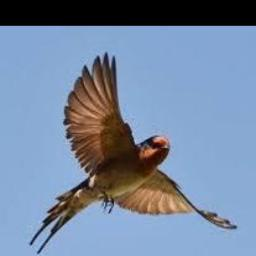Swallow: (30, 53, 239, 255)
